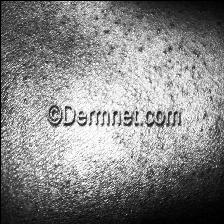Non-Cancerous Skin Condition: (76, 9, 202, 102)
